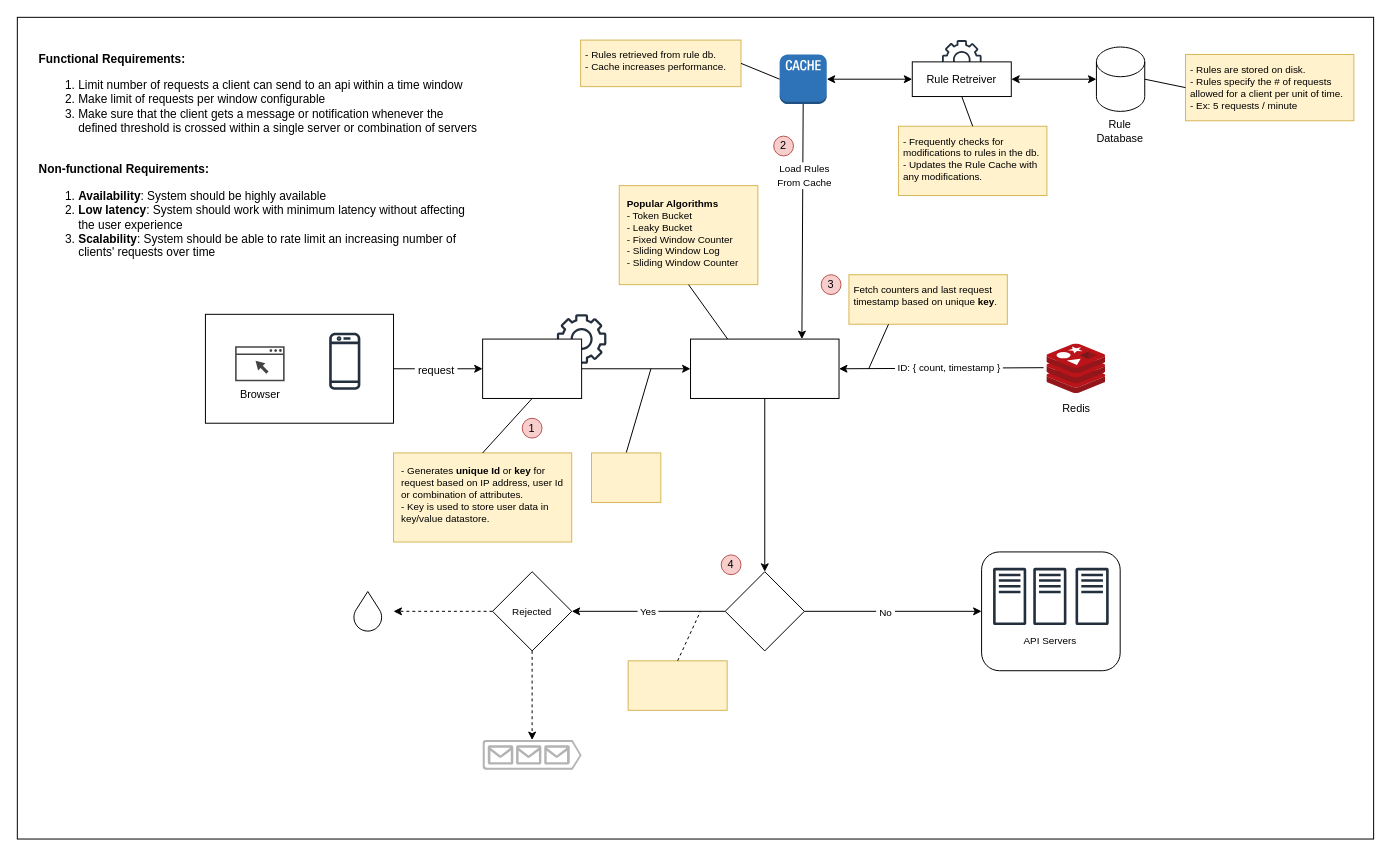
The diagram is 1391 pixels wide and 856 high, and some of its shapes have lost their labels. Here are the shapes that lost their labels. From the top down, the centre of each, then its label:
the point at 344,360: Mobile
the point at 532,368: Client Identifier Builder
the point at 764,368: Decision Maker (Rate Limiter Algorithm)
the point at 626,477: Unique key is passed
the point at 367,611: Request Dropped
the point at 764,611: Is Limit Reached
the point at 677,685: Return HTTP 429 to client.
